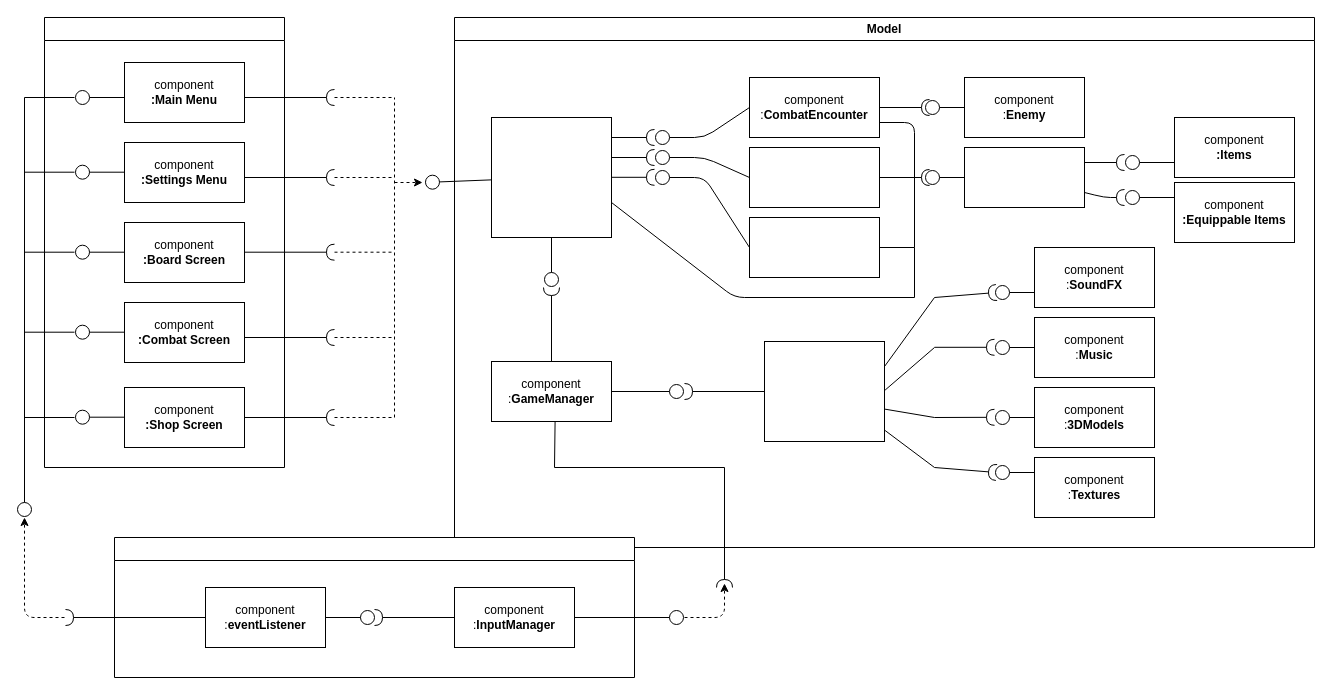
Image size: 1332x695. Some labels were removed from this diagram. Here are the shapes that lost their labels. From the top down, the box of each, then its label:
(490, 116, 612, 238): component : GameBoard
(748, 146, 880, 208): component : ChallengeEncounter
(964, 146, 1084, 208): component : Player
(44, 16, 284, 468): View
(748, 216, 880, 278): component : Shop
(764, 340, 884, 442): component : Game Assets
(114, 536, 634, 678): Controller
